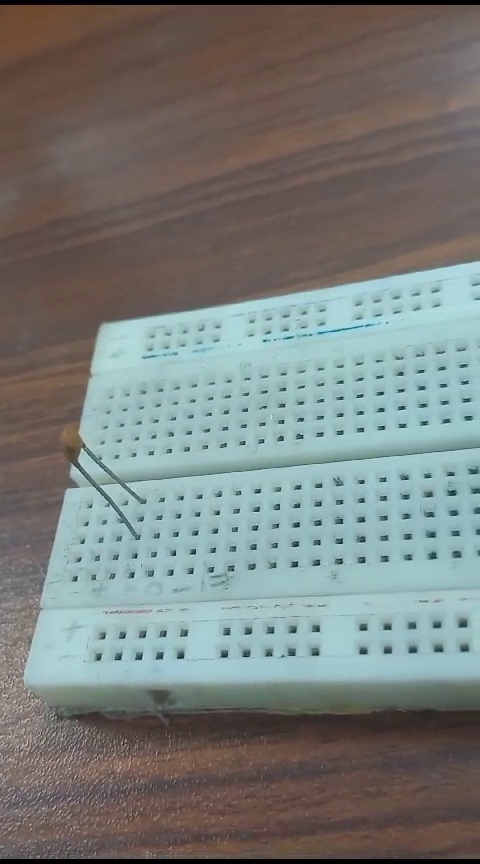ceramic capacitor: (43, 433, 158, 544)
